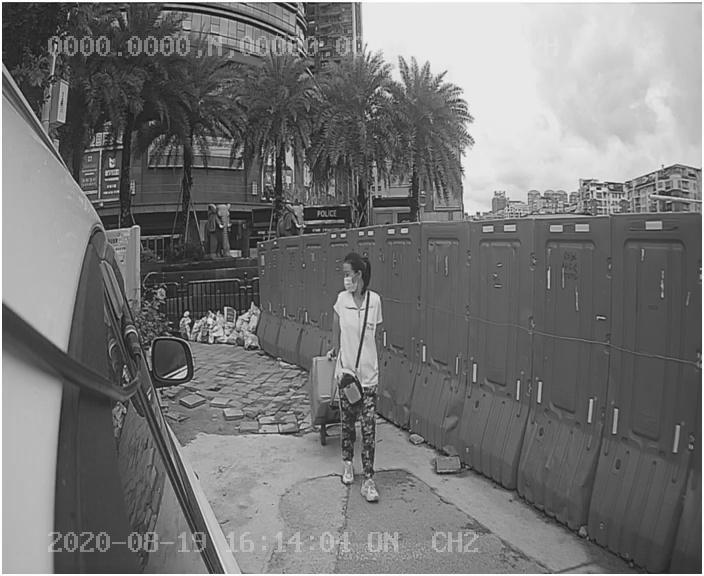person: (320, 248, 408, 518)
